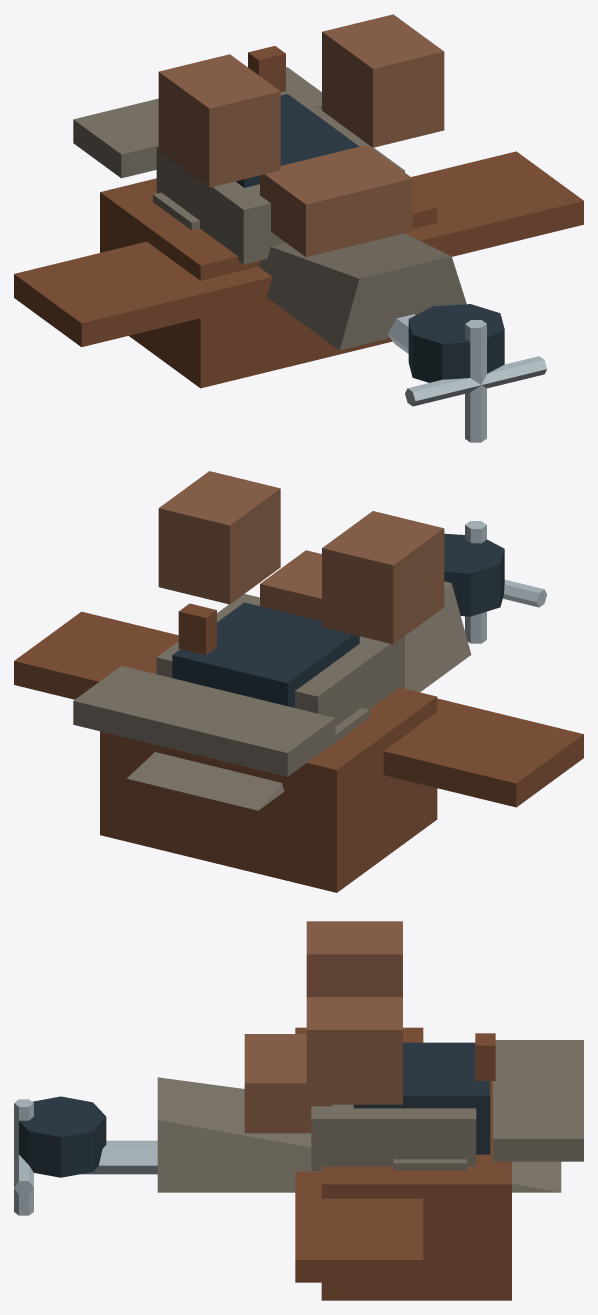
File: air-transport.obj
3 views of the same model, one above another, from view 1: azimuth 30°, elevation 25°; view 2: azimuth 150°, elevation 25°; view 3: azimuth 270°, elevation 25° (orthographic). The views are drawn at different scales.
Visible parts, largest first — view 1: air; view 2: air; view 3: air.
Part boxes in pixels (<box>): air: <box>14,14,583,442</box>; air: <box>14,471,583,892</box>; air: <box>14,921,583,1300</box>.
Bounding box in the file's own units: 2.4 × 1.3 × 2.49.
